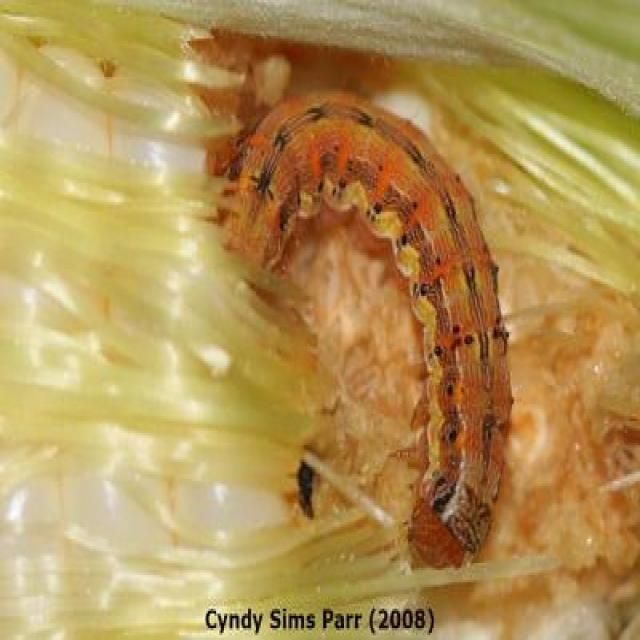cornborer-Larva-: (222, 69, 520, 588)
